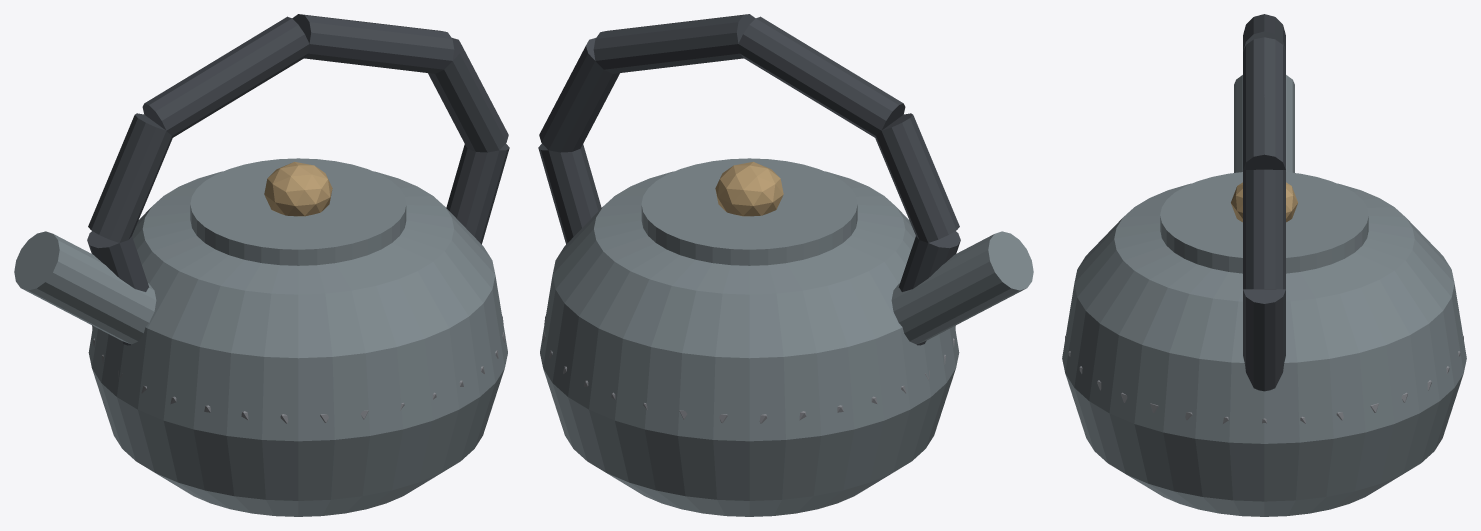
Rendered from tea_tetsubin.glb.
3 renders of one model, left to right at view 1: azimuth 30°, elevation 25°; view 2: azimuth 150°, elevation 25°; view 3: azimuth 270°, elevation 25°, orthographic. The views are drawn at different scales.
Visible parts, largest first — view 1: Iron sand texture kettle, Heavy iron lid, Angled pouring lip, Overarching heavy cast handle_02, Overarching heavy cast handle_03, Overarching heavy cast handle_01, Overarching heavy cast handle_04, Overarching heavy cast handle_05, Solid bronze finial, Overarching heavy cast handle_00; view 2: Iron sand texture kettle, Heavy iron lid, Angled pouring lip, Overarching heavy cast handle_02, Overarching heavy cast handle_03, Overarching heavy cast handle_01, Overarching heavy cast handle_04, Overarching heavy cast handle_05, Solid bronze finial, Overarching heavy cast handle_00; view 3: Iron sand texture kettle, Heavy iron lid, Overarching heavy cast handle_03, Overarching heavy cast handle_04, Overarching heavy cast handle_05, Angled pouring lip, Overarching heavy cast handle_02, Solid bronze finial.
Boxes of the visible parts, x1,y1,x2,y2 form: Iron sand texture kettle: (88, 171, 507, 516); Heavy iron lid: (190, 158, 406, 265); Angled pouring lip: (14, 231, 156, 344); Overarching heavy cast handle_02: (142, 16, 309, 137); Overarching heavy cast handle_03: (292, 14, 454, 73); Overarching heavy cast handle_01: (88, 113, 172, 242); Overarching heavy cast handle_04: (428, 38, 508, 152); Overarching heavy cast handle_05: (446, 144, 509, 244); Solid bronze finial: (264, 161, 332, 216); Overarching heavy cast handle_00: (87, 231, 149, 345); Iron sand texture kettle: (540, 171, 959, 516); Heavy iron lid: (641, 158, 857, 265); Angled pouring lip: (891, 231, 1033, 344); Overarching heavy cast handle_02: (738, 16, 905, 137); Overarching heavy cast handle_03: (593, 14, 755, 73); Overarching heavy cast handle_01: (875, 113, 959, 242); Overarching heavy cast handle_04: (539, 38, 619, 152); Overarching heavy cast handle_05: (538, 144, 601, 244); Solid bronze finial: (715, 161, 783, 216); Overarching heavy cast handle_00: (898, 231, 960, 345); Iron sand texture kettle: (1062, 183, 1466, 516); Heavy iron lid: (1160, 172, 1368, 273); Overarching heavy cast handle_03: (1243, 37, 1285, 169); Overarching heavy cast handle_04: (1243, 169, 1285, 289); Overarching heavy cast handle_05: (1243, 289, 1285, 391); Angled pouring lip: (1234, 75, 1294, 172); Overarching heavy cast handle_02: (1243, 14, 1285, 51); Solid bronze finial: (1231, 182, 1297, 222).
Bounding box in the file's own units: 1.95 × 1.71 × 1.46.
